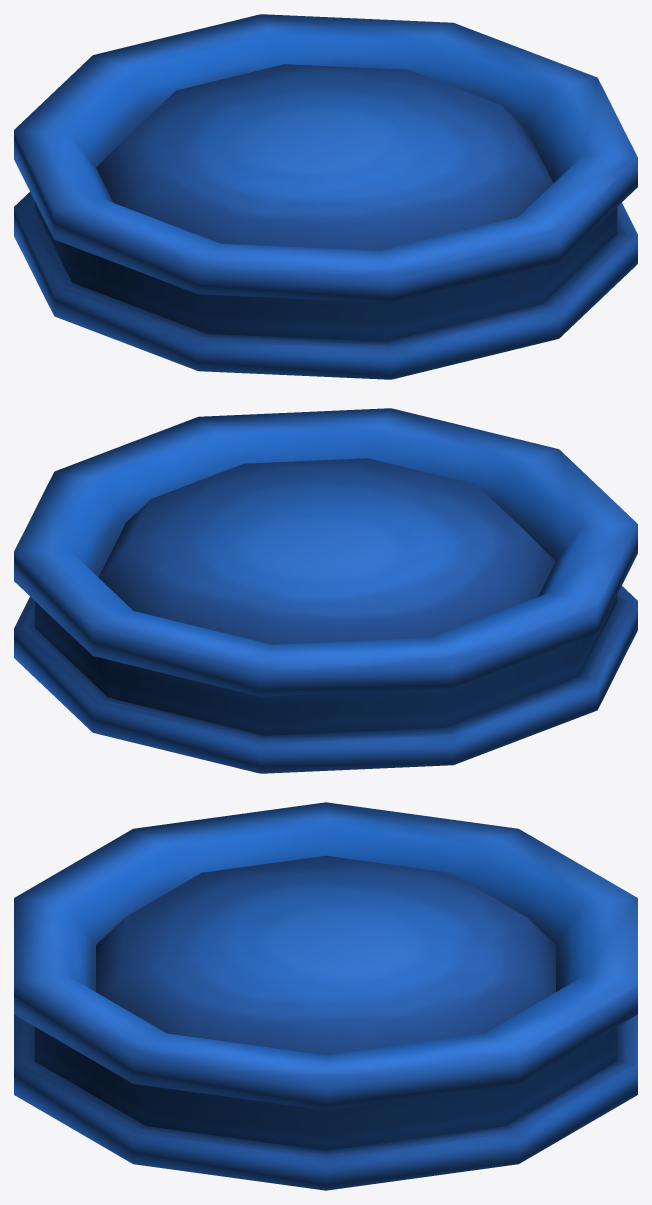
File: JetonBleu.FBX
The picture shows the model from 3 angles, top to bottom: view 1: azimuth 30°, elevation 25°; view 2: azimuth 150°, elevation 25°; view 3: azimuth 270°, elevation 25°; orthographic projection. The views are drawn at different scales.
Visible parts, largest first — view 1: JetonBleu; view 2: JetonBleu; view 3: JetonBleu.
Part boxes in pixels (x1,y1,x2,y2): JetonBleu: [14, 14, 637, 379]; JetonBleu: [14, 408, 637, 773]; JetonBleu: [14, 802, 637, 1190].
Bounding box in the file's own units: 0.91 × 0.17 × 0.8655.
